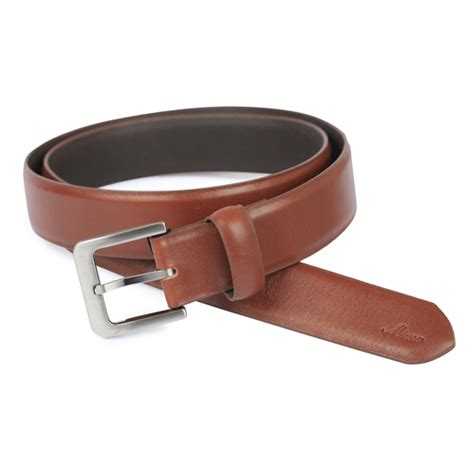cuero: (23, 105, 456, 365)
